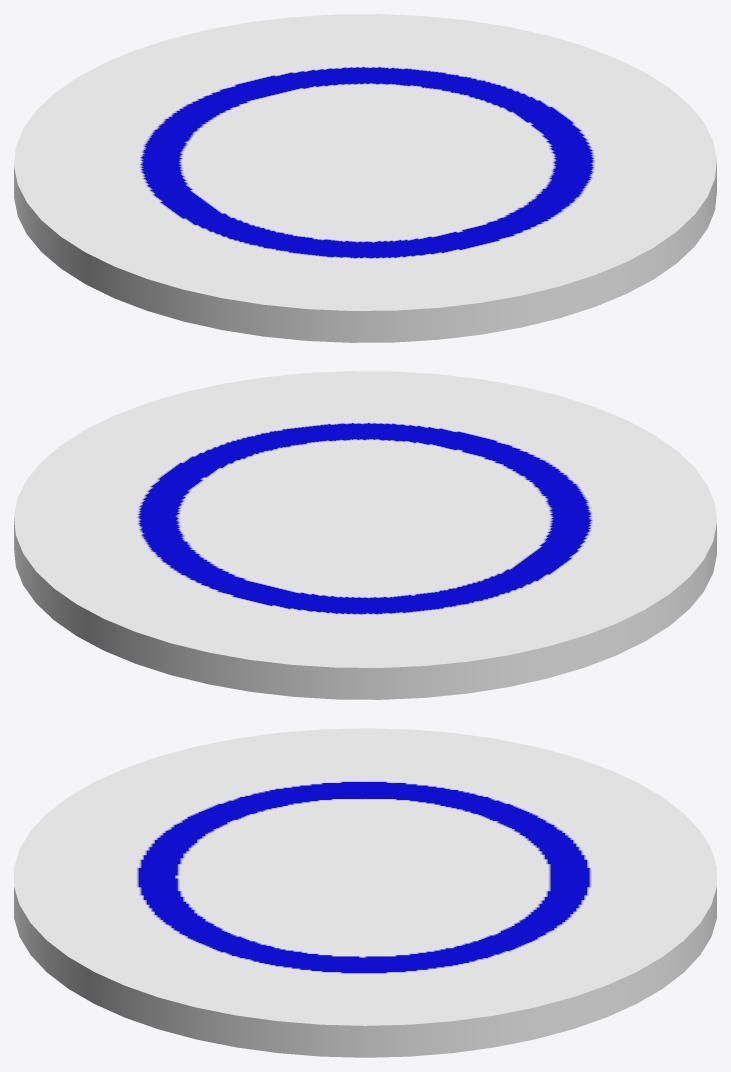
Rendered from Checkpoint.fbx.
The picture shows the model from 3 angles, top to bottom: view 1: azimuth 30°, elevation 25°; view 2: azimuth 150°, elevation 25°; view 3: azimuth 270°, elevation 25°; orthographic projection.
Parts seen in each view (by area): view 1: pCylinder1; view 2: pCylinder1; view 3: pCylinder1.
Part boxes in pixels (x1=…): pCylinder1: x1=14, y1=14, x2=716, y2=342; pCylinder1: x1=14, y1=371, x2=716, y2=699; pCylinder1: x1=14, y1=728, x2=716, y2=1057.
Bounding box in the file's own units: 4 × 0.2 × 3.99.
1 material, 1 textured.
